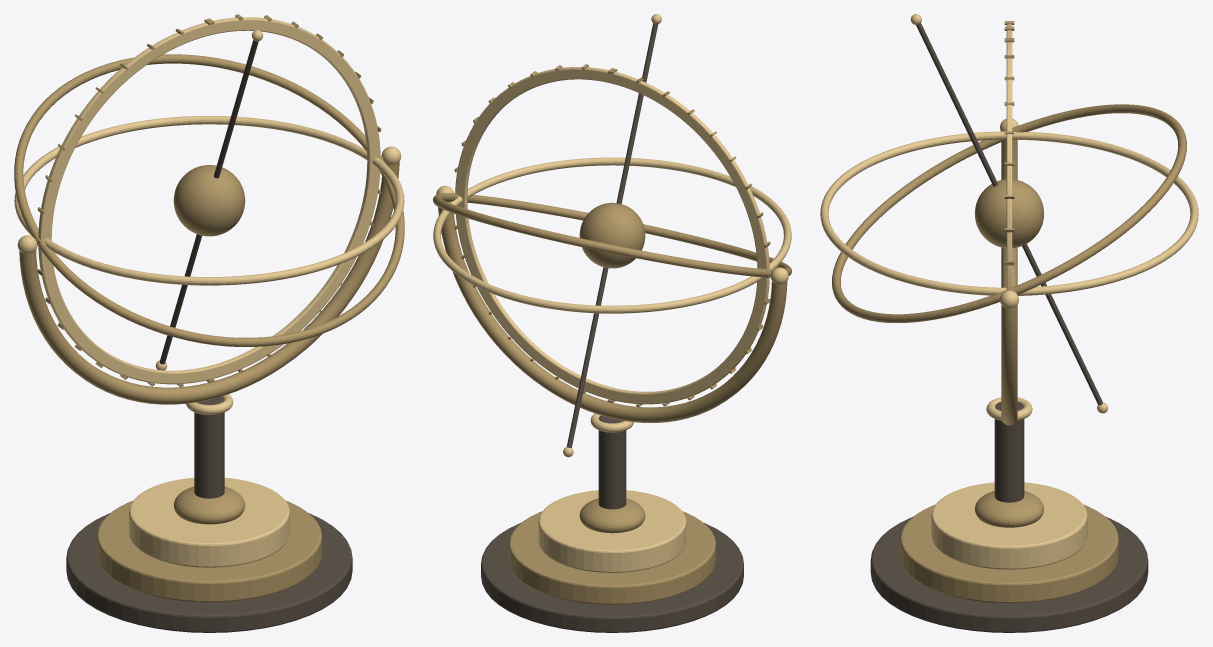
Rendered from armillary.glb.
The picture shows the model from 3 angles, left to right: view 1: azimuth 30°, elevation 25°; view 2: azimuth 150°, elevation 25°; view 3: azimuth 270°, elevation 25°; orthographic projection. The views are drawn at different scales.
Visible parts, largest first — view 1: Ring_Meridian, Base1, Base2, Base3, Ring_Ecliptic, Cradle, Ring_Equator, CoreEarth, Column, BaseDome, AxisRod; view 2: Ring_Meridian, Base1, Base2, Base3, Cradle, Ring_Equator, Ring_Ecliptic, CoreEarth, Column, AxisRod, BaseDome; view 3: Base1, Base2, Base3, Ring_Ecliptic, Ring_Equator, CoreEarth, Cradle, Column, AxisRod, BaseDome, Ring_Meridian.
Part boxes in pixels (left/top/right/bottom): Ring_Meridian: left=38, top=17, right=380, bottom=384; Base1: left=66, top=513, right=352, bottom=632; Base2: left=97, top=500, right=321, bottom=602; Base3: left=129, top=477, right=289, bottom=567; Ring_Ecliptic: left=14, top=54, right=404, bottom=346; Cradle: left=19, top=162, right=399, bottom=404; Ring_Equator: left=14, top=116, right=404, bottom=285; CoreEarth: left=173, top=165, right=245, bottom=236; Column: left=194, top=396, right=224, bottom=498; BaseDome: left=173, top=486, right=245, bottom=524; AxisRod: left=159, top=40, right=258, bottom=364; Ring_Meridian: left=455, top=67, right=769, bottom=404; Base1: left=481, top=523, right=743, bottom=632; Base2: left=509, top=511, right=715, bottom=604; Base3: left=538, top=490, right=686, bottom=572; Cradle: left=438, top=201, right=787, bottom=422; Ring_Equator: left=433, top=157, right=791, bottom=313; Ring_Ecliptic: left=433, top=193, right=791, bottom=277; CoreEarth: left=579, top=202, right=645, bottom=268; Column: left=598, top=415, right=626, bottom=509; AxisRod: left=566, top=23, right=658, bottom=447; BaseDome: left=579, top=498, right=645, bottom=533; Base1: left=870, top=517, right=1148, bottom=632; Base2: left=900, top=504, right=1118, bottom=603; Base3: left=931, top=482, right=1087, bottom=569; Ring_Ecliptic: left=832, top=104, right=1186, bottom=322; Ring_Equator: left=820, top=131, right=1198, bottom=295; CoreEarth: left=975, top=179, right=1043, bottom=248; Cradle: left=1001, top=139, right=1017, bottom=425; Column: left=994, top=402, right=1024, bottom=502; AxisRod: left=916, top=23, right=1102, bottom=405; BaseDome: left=975, top=491, right=1043, bottom=527; Ring_Meridian: left=1006, top=24, right=1012, bottom=290.
Size of the model in its own units: 2.46 by 3.59 by 2.18.
